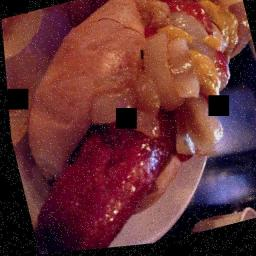hotdog: (8, 105, 193, 256)
